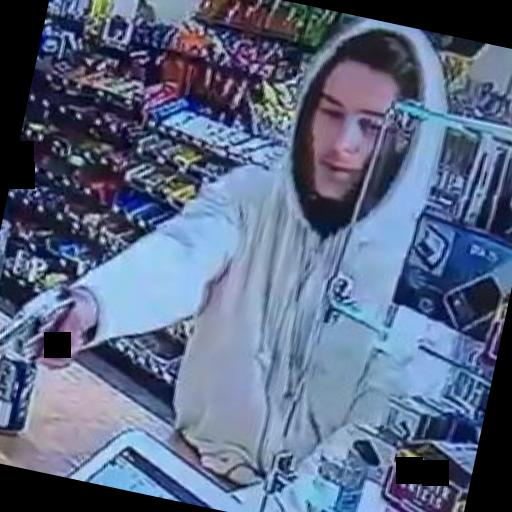Handgun: (0, 270, 93, 375)
